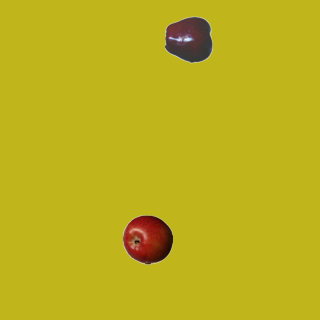Apple Braeburn: (122, 214, 172, 264)
Apple Red Delicious: (164, 14, 214, 64)
